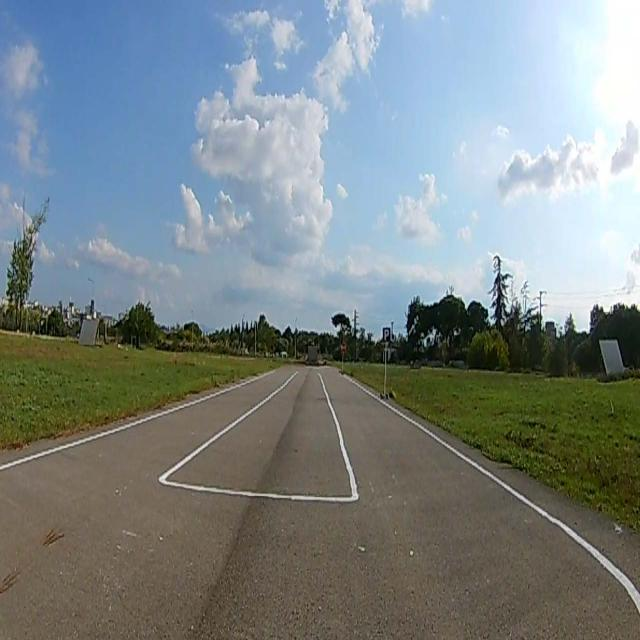park: (383, 328, 390, 341)
